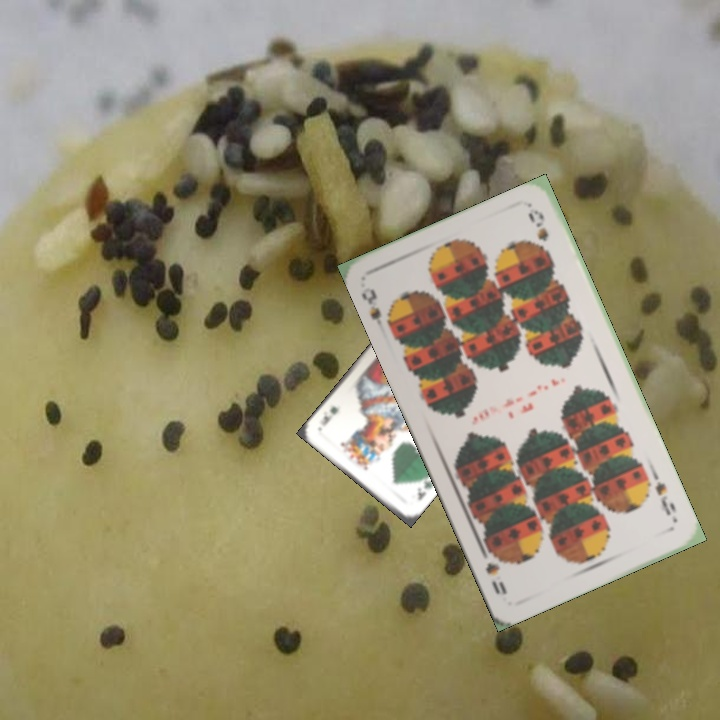GK: (413, 471, 436, 503)
S9: (357, 284, 398, 333), (651, 477, 679, 518)
